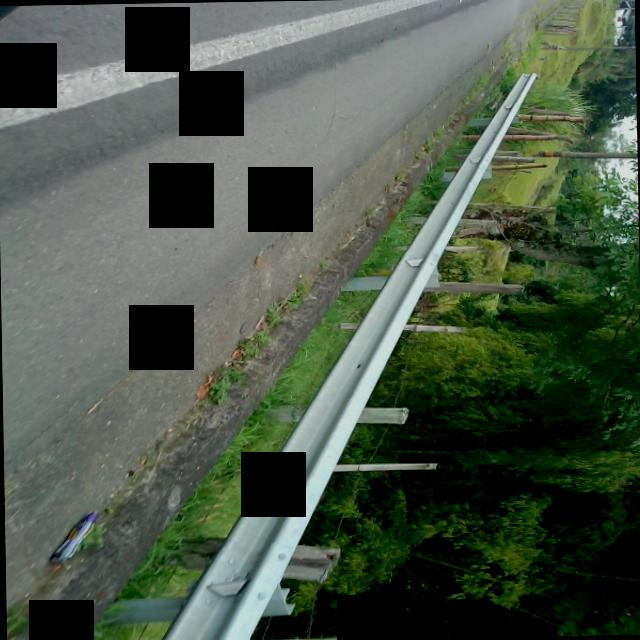DITCH: (0, 0, 581, 640), (0, 0, 577, 640), (0, 0, 549, 640)
